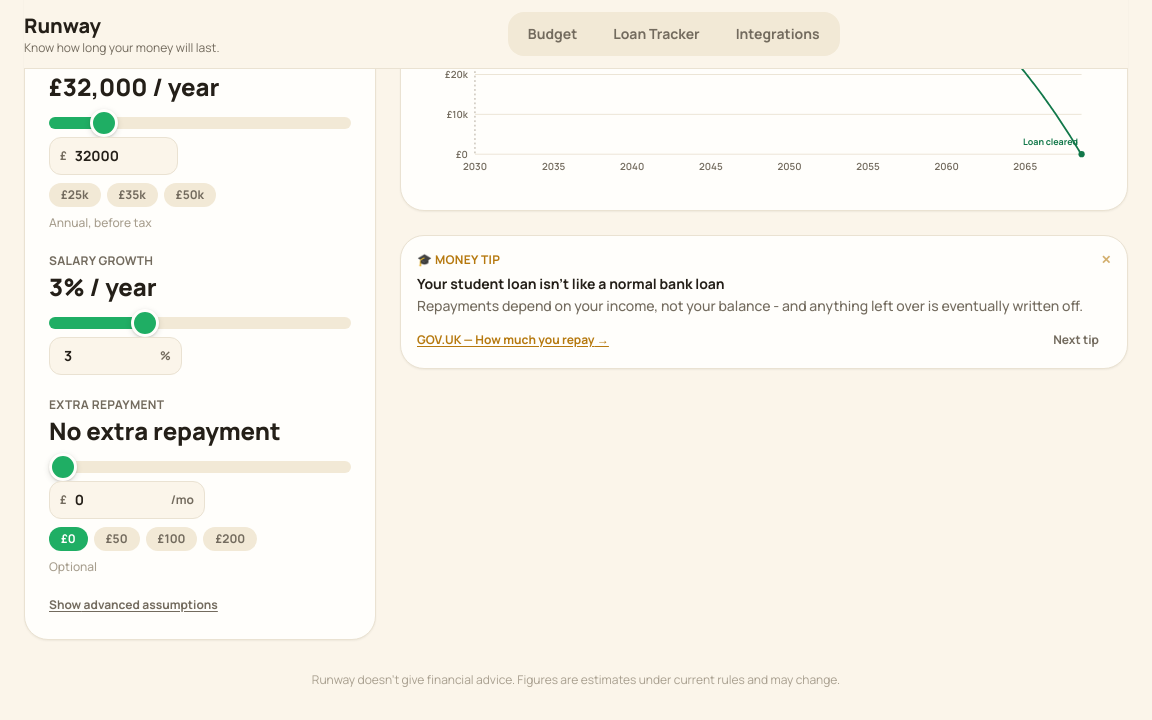
Test: LoanTrackerShell - editing the example › shows the extra-repayment comparison once extra repayment is above zero, and hides it at zero
(page scrolled)
Expected: the text "What changes with" is not shown
Replace the text in the number field named "extra repayment - exact value" with "100" at (119, 500), box [71, 486, 167, 514]
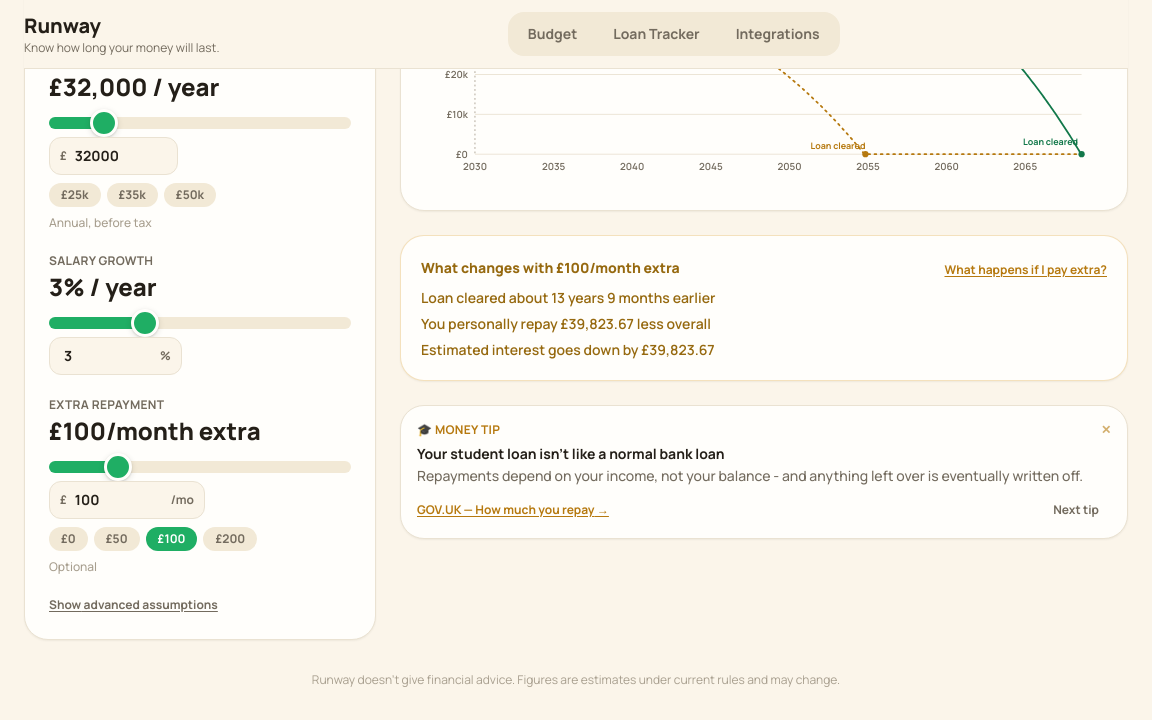
Result: the heading "What changes with £100/month extra" is shown at [421, 258, 680, 278]
Replace the text in the number field named "extra repayment - exact value" with "0" at (119, 500), box [71, 486, 167, 514]
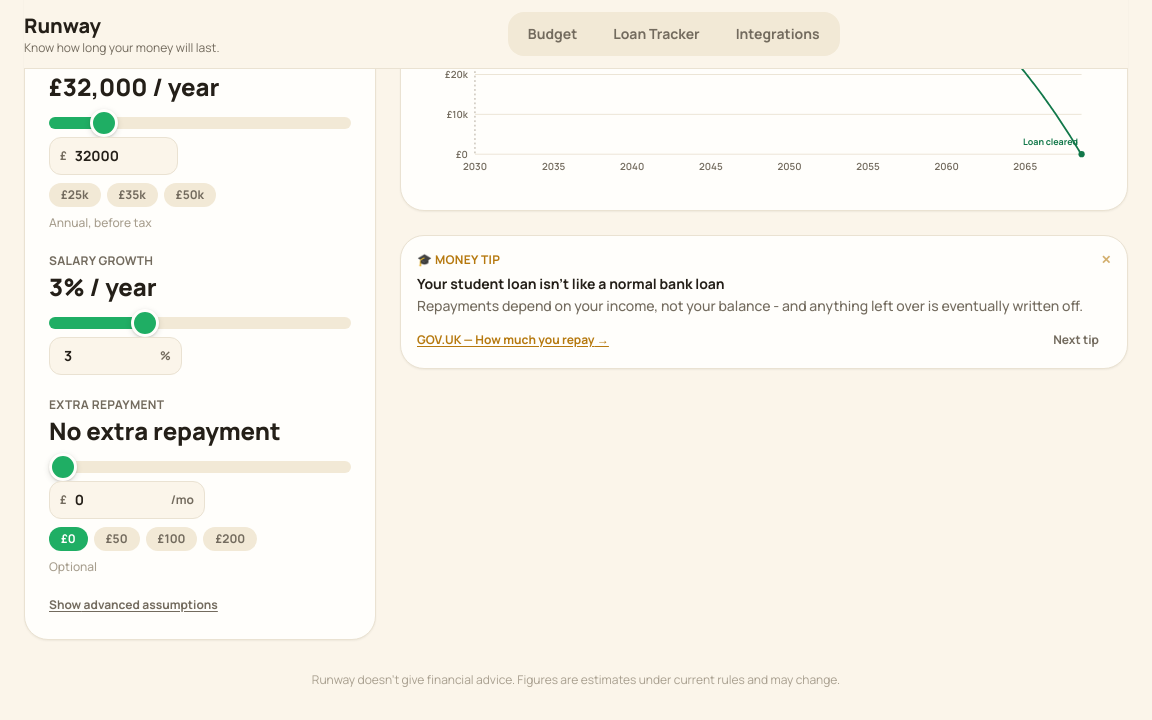
Result: the heading "What changes with" is gone
